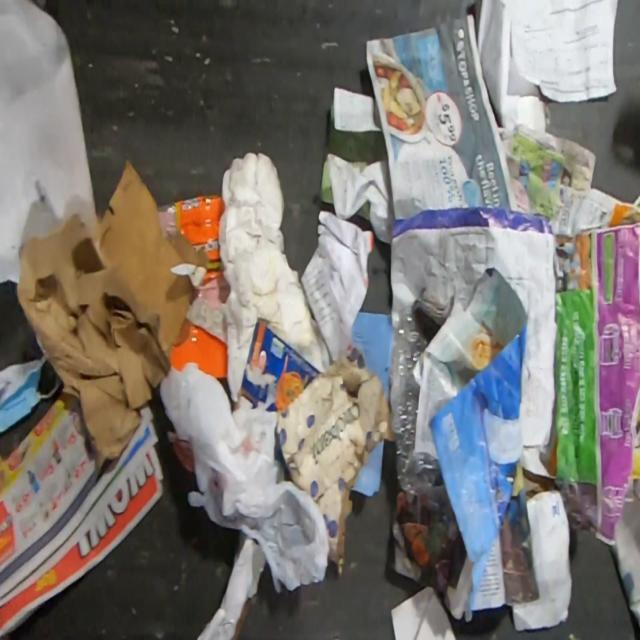cardboard: (14, 154, 211, 469), (274, 351, 394, 577)
rigid_plastic: (388, 304, 443, 496)
soft_plastic: (159, 360, 332, 594)
